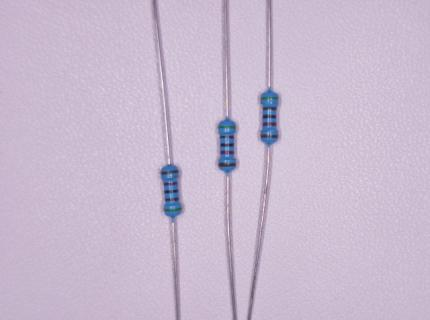Black band: (220, 142, 235, 147), (262, 114, 277, 119), (164, 189, 179, 193)
Brown band: (218, 162, 237, 167), (260, 134, 279, 139), (161, 170, 180, 175), (263, 106, 277, 111), (220, 135, 234, 139), (164, 198, 179, 201)
Green band: (164, 207, 182, 212), (218, 125, 236, 129), (261, 96, 279, 100)
Red band: (262, 122, 277, 127), (163, 182, 178, 186), (220, 151, 234, 155)
